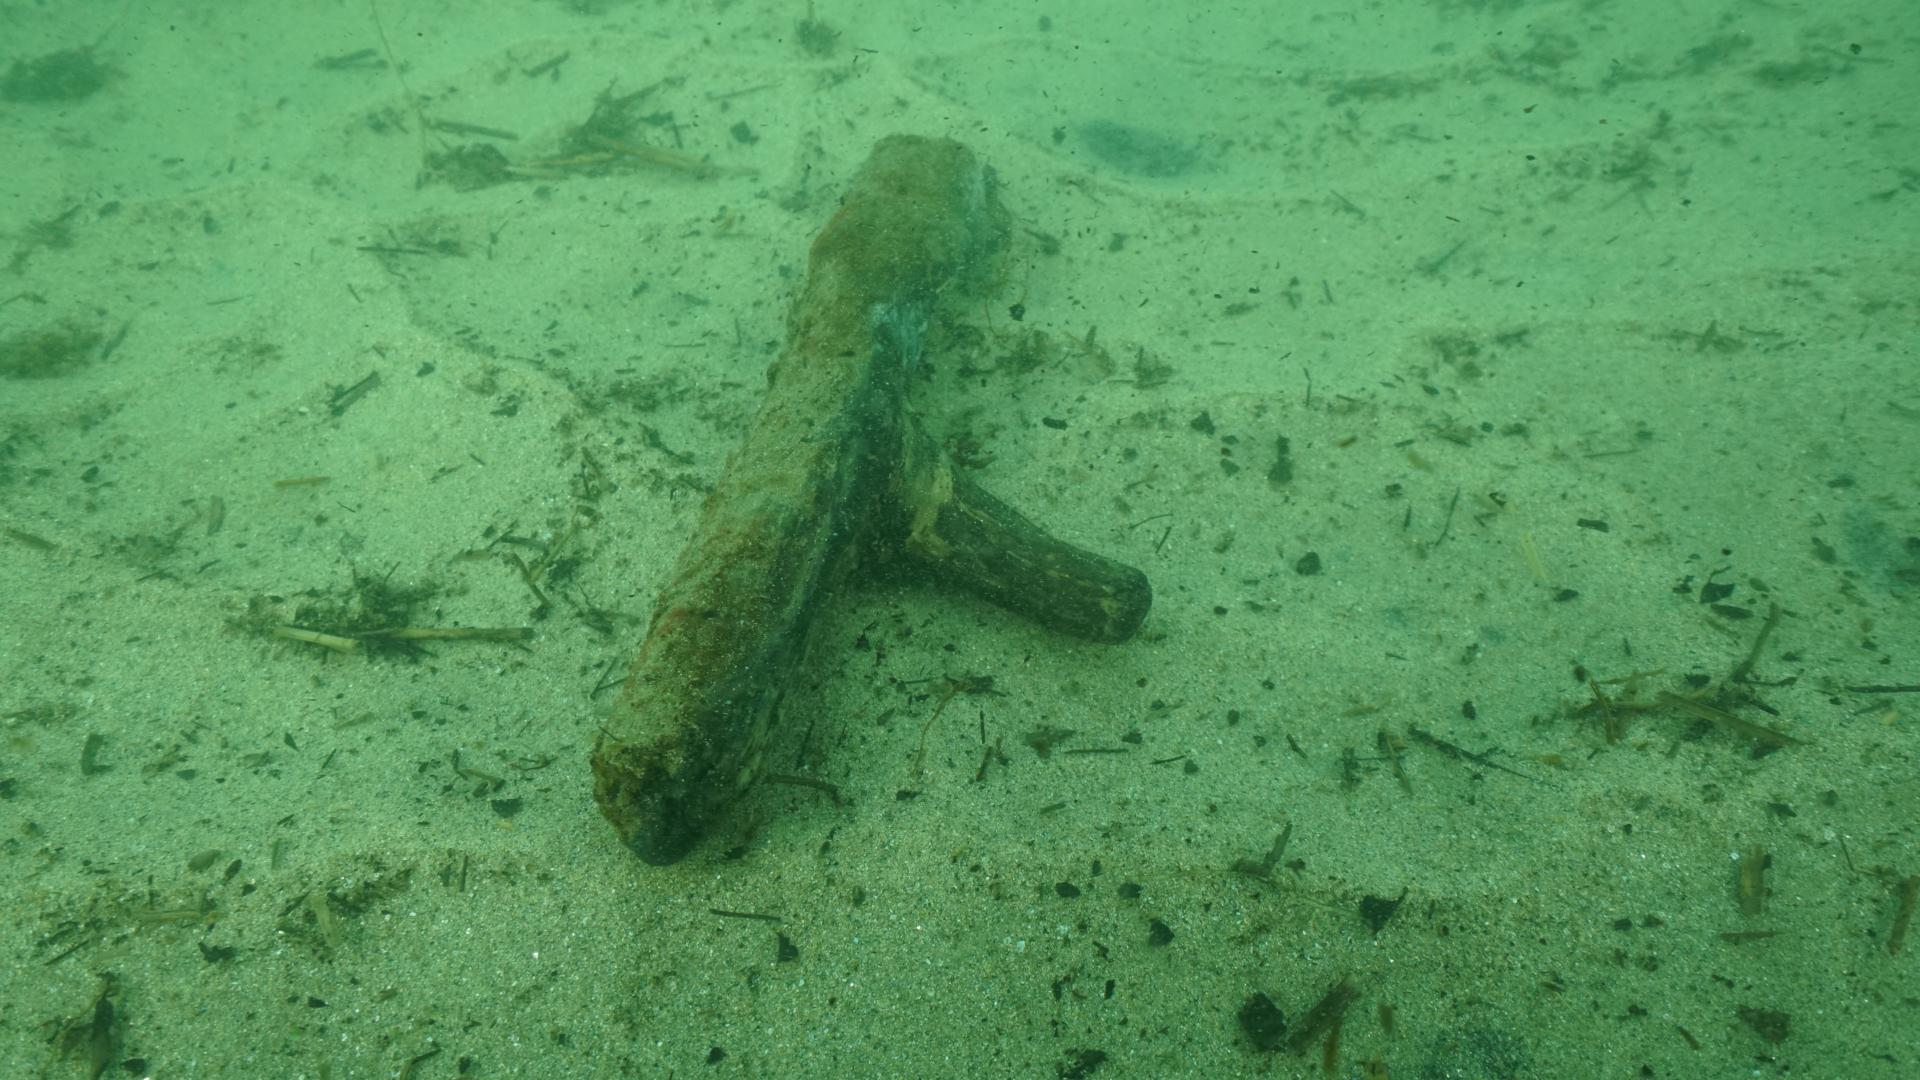wood: (585, 131, 1151, 866)
